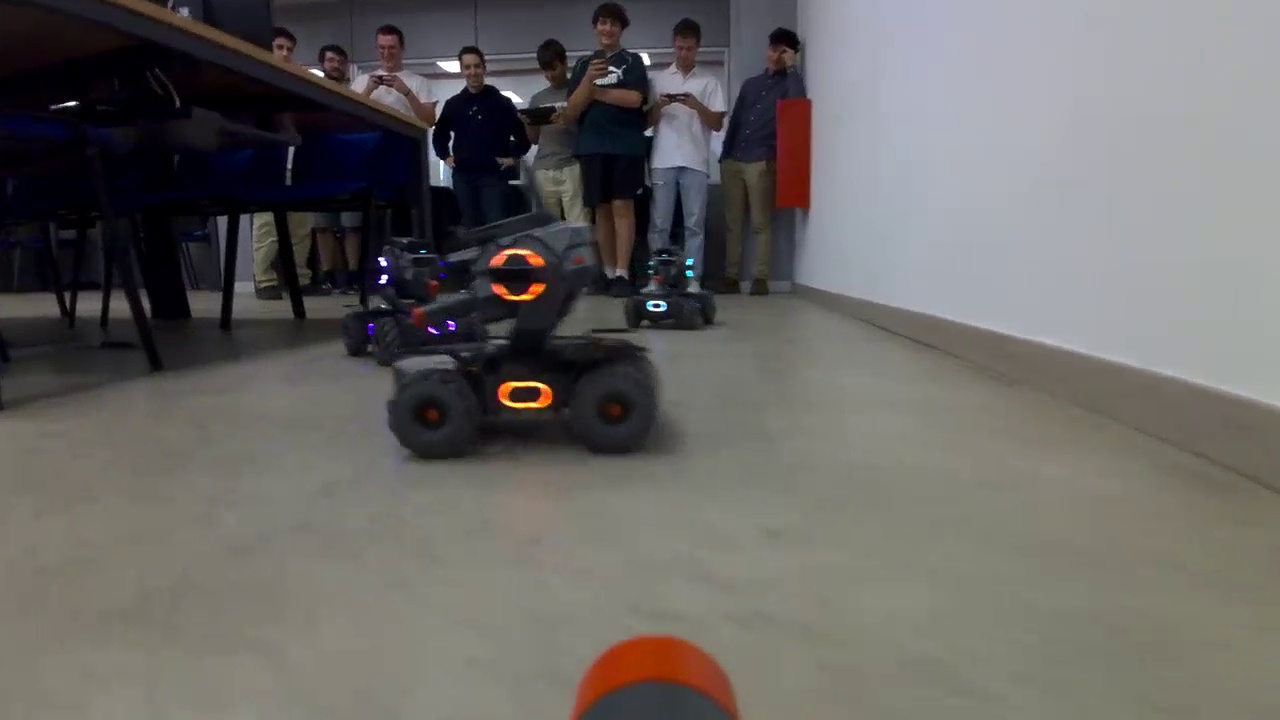robot: (413, 255, 675, 477), (348, 232, 490, 385), (638, 250, 710, 340)
